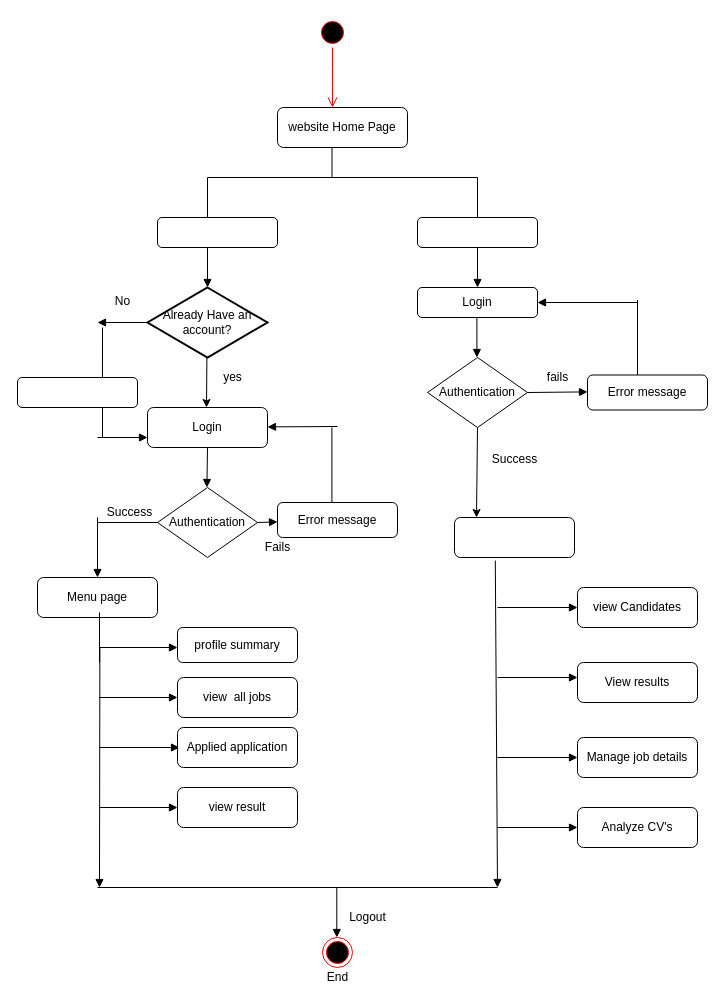
The diagram is 725 pixels wide and 1005 high, and some of its shapes have lost their labels. The centre of each missing label's shape, as x and y in pixels:
"Admin" belongs at (x=477, y=232).
"Admin Home" belongs at (x=514, y=537).
"Candidate" belongs at (x=217, y=232).
"Register" belongs at (x=77, y=392).
